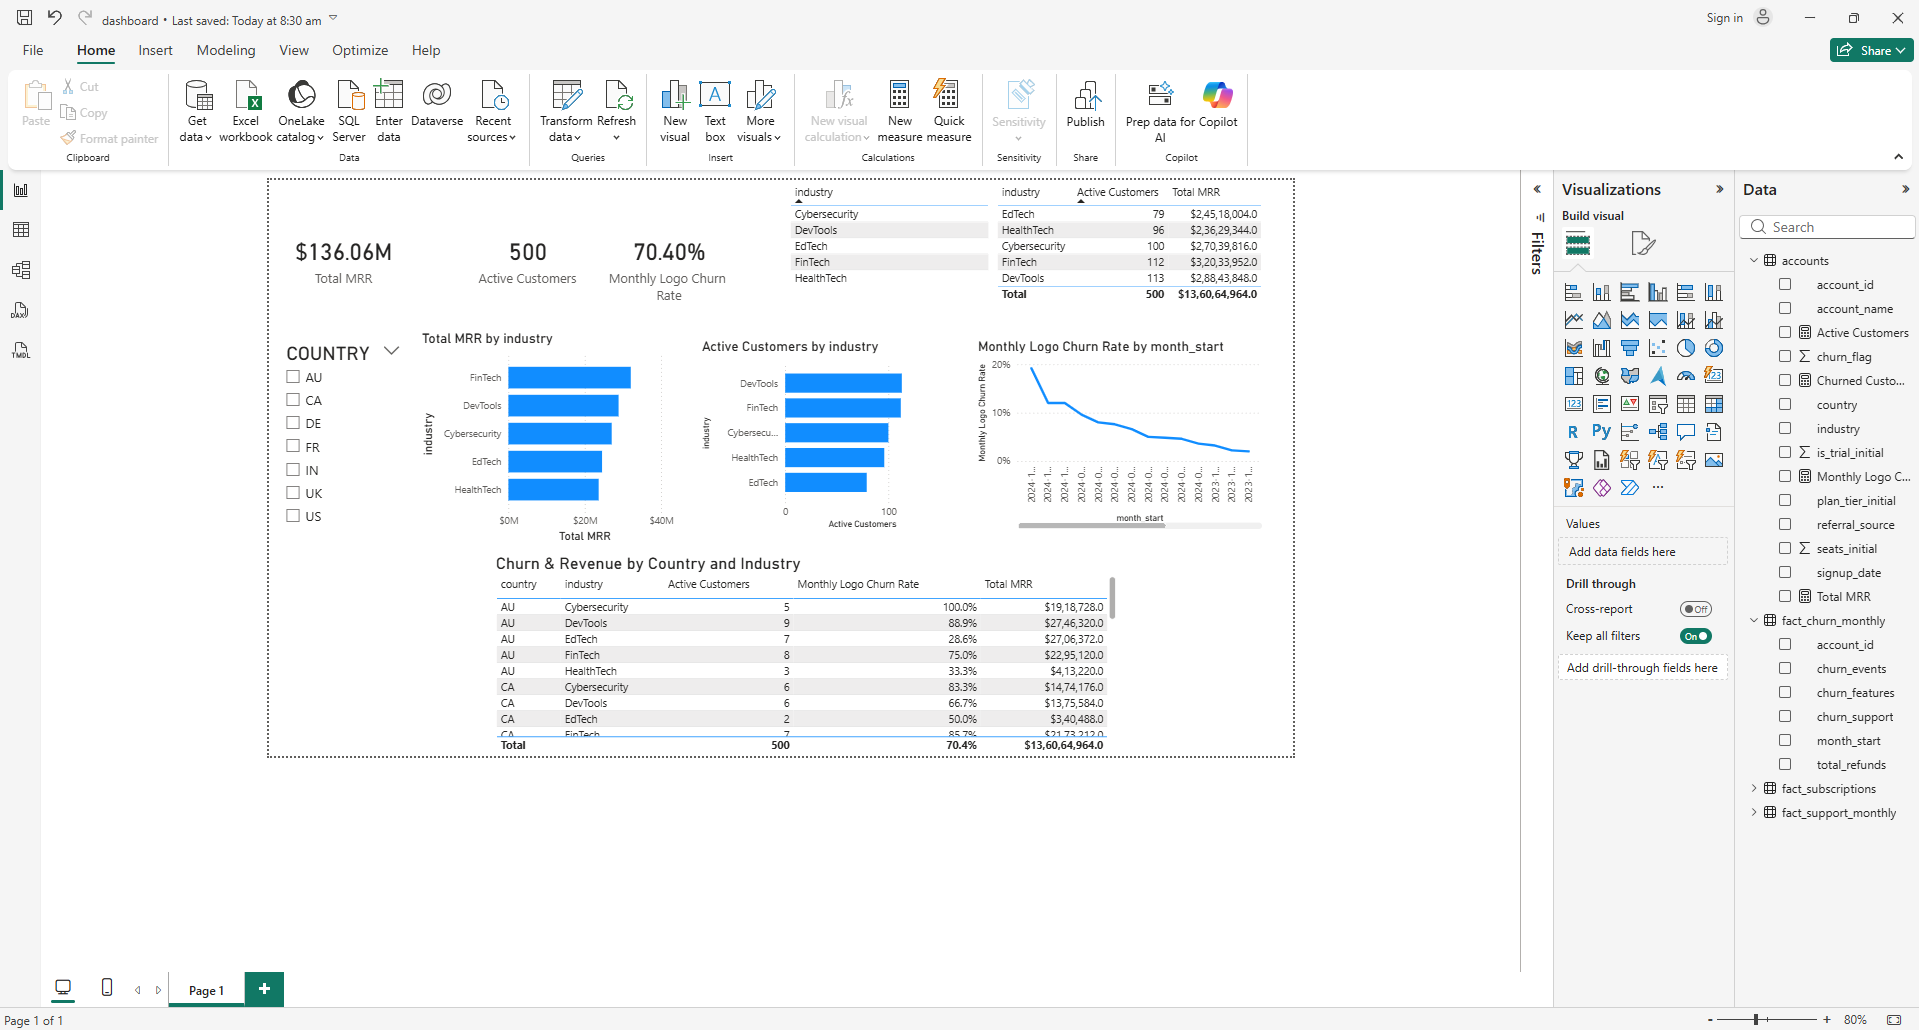

This screenshot's page, from the dashboard's own definition file:
{"tool":"powerbi","page":{"name":"Page 1","canvas":[1280,720],"ordinal":0},"visuals":[{"type":"card","title":"Total Monthly Recurring Revenue","fields":{"Values":["accounts.Total MRR"]},"box":[0,0,186.2,197.5],"z":0},{"type":"card","fields":{"Values":["accounts.Active Customers"]},"box":[213.8,0,218.8,197.5],"z":1000},{"type":"card","fields":{"Values":["accounts.Monthly Logo Churn Rate"]},"box":[410,0,180,197.5],"z":2000},{"type":"tableEx","fields":{"Values":["accounts.industry","accounts.Active Customers","accounts.Total MRR"]},"box":[905,0,341.2,197.5],"z":3000},{"type":"tableEx","title":"Industry","fields":{"Values":["accounts.industry"]},"box":[646.2,0,258.8,197.5],"z":4000},{"type":"slicer","fields":{"Values":["accounts.country"]},"box":[8.8,197.5,167.5,260],"z":5000},{"type":"barChart","fields":{"Category":["accounts.industry"],"Y":["accounts.Total MRR"]},"box":[186.2,187.5,325,270],"z":6000},{"type":"barChart","fields":{"Category":["accounts.industry"],"Y":["accounts.Active Customers"]},"box":[536.2,197.5,317.5,243.8],"z":7000},{"type":"lineChart","fields":{"Category":["fact_churn_monthly.month_start"],"Y":["accounts.Monthly Logo Churn Rate"]},"box":[881.2,197.5,365,243.8],"z":8000},{"type":"tableEx","title":"Churn & Revenue by Country and Industry","fields":{"Values":["accounts.country","accounts.industry","accounts.Active Customers","accounts.Monthly Logo Churn Rate","accounts.Total MRR"]},"box":[278.8,467.5,785,252.5],"z":8001}]}

Visuals, with their boxes on the page's 1280x720 design canvas (x1, y1, x2, y2). These are canvas units, not pixel positions in the 1919x1030 screenshot, which may show the page scaled, cropped or inside an application window:
"Total Monthly Recurring Revenue" card: BBox(0, 0, 186, 198)
card - accounts.Active Customers: BBox(214, 0, 433, 198)
card - accounts.Monthly Logo Churn Rate: BBox(410, 0, 590, 198)
tableEx - accounts.industry x accounts.Active Customers: BBox(905, 0, 1246, 198)
"Industry" tableEx: BBox(646, 0, 905, 198)
slicer - accounts.country: BBox(9, 198, 176, 458)
barChart - accounts.industry x accounts.Total MRR: BBox(186, 188, 511, 458)
barChart - accounts.industry x accounts.Active Customers: BBox(536, 198, 854, 441)
lineChart - fact_churn_monthly.month_start x accounts.Monthly Logo Churn Rate: BBox(881, 198, 1246, 441)
"Churn & Revenue by Country and Industry" tableEx: BBox(279, 468, 1064, 720)
